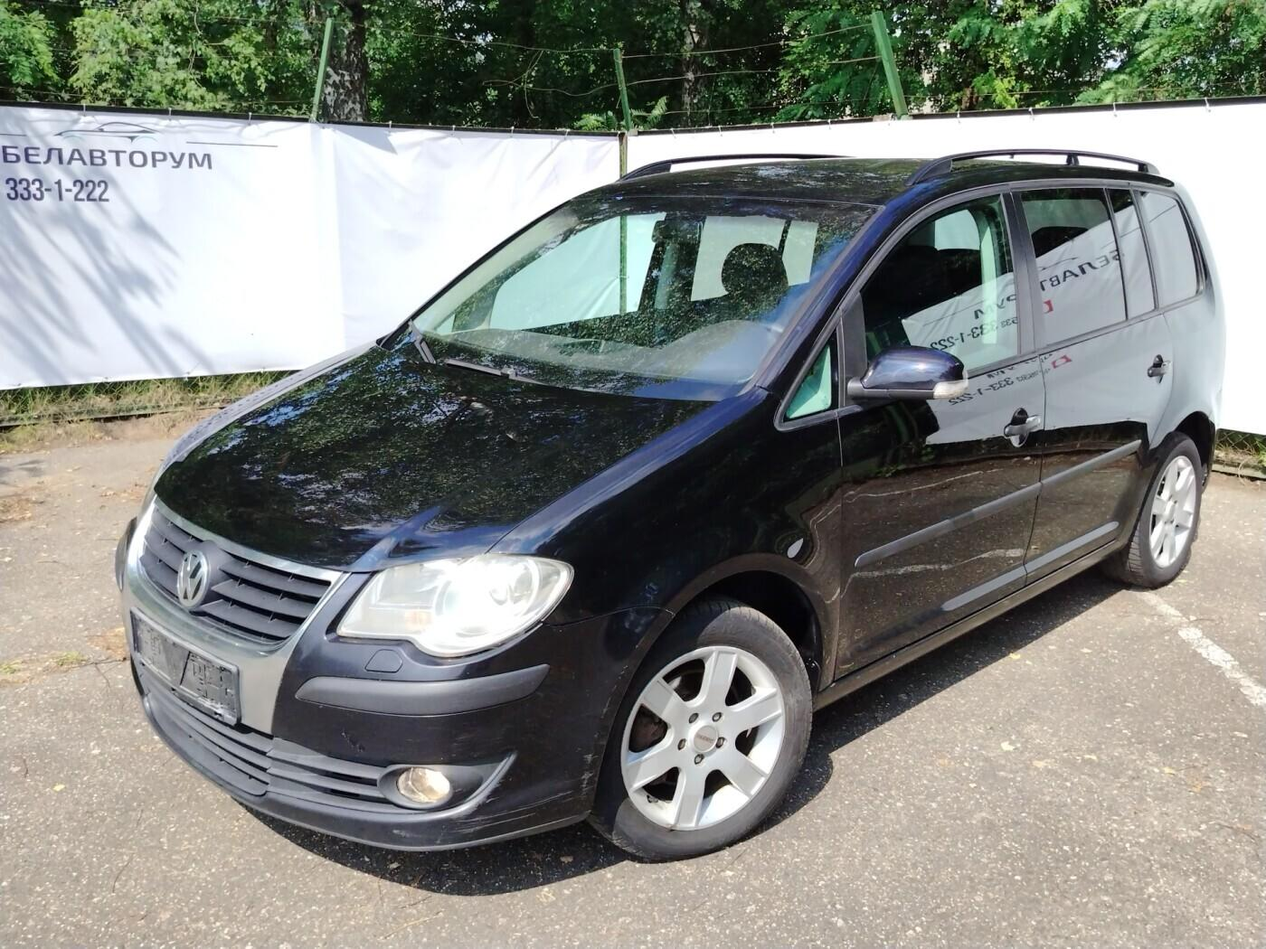Touran_2006-2010: (110, 148, 1227, 864)
